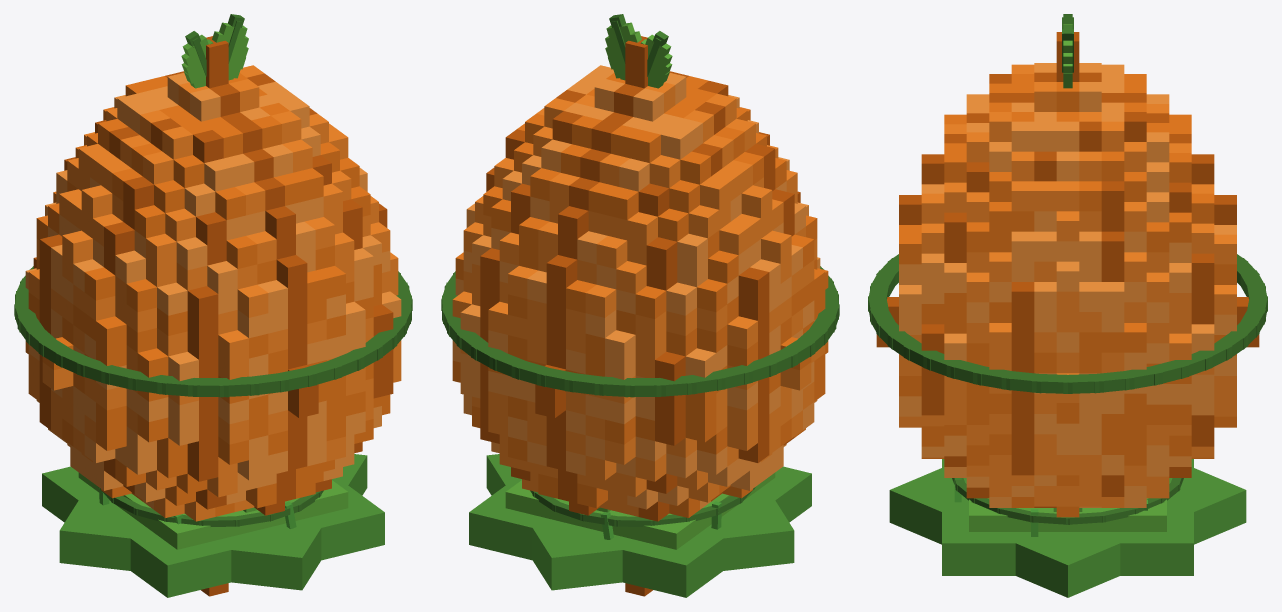
File: egg_pc_calabaza.glb
3 views of the same model, side by side, from view 1: azimuth 30°, elevation 25°; view 2: azimuth 150°, elevation 25°; view 3: azimuth 270°, elevation 25° (orthographic).
Visible parts, largest first — view 1: shell_geo, root_geo, egg_geo; view 2: shell_geo, root_geo, egg_geo; view 3: shell_geo, root_geo, egg_geo.
Part boxes in pixels (box(x1,y1,x2,y2)): shell_geo: box(25, 36, 401, 596); root_geo: box(42, 454, 384, 597); egg_geo: box(14, 14, 412, 397); shell_geo: box(452, 36, 828, 596); root_geo: box(469, 454, 811, 597); egg_geo: box(441, 14, 839, 397); shell_geo: box(876, 32, 1259, 517); root_geo: box(889, 459, 1246, 597); egg_geo: box(868, 14, 1267, 393).
Size of the model in its own units: 4.44 by 7.01 by 4.44.
